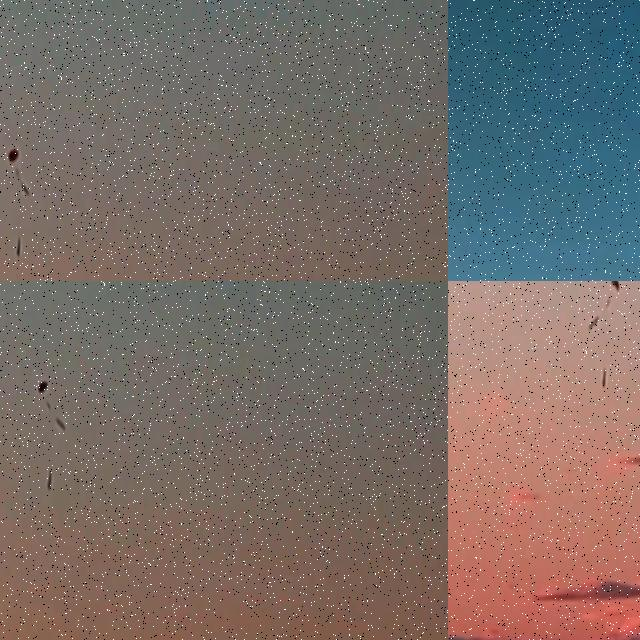Rocket: (16, 235, 22, 258), (602, 368, 607, 386), (48, 471, 52, 489)
